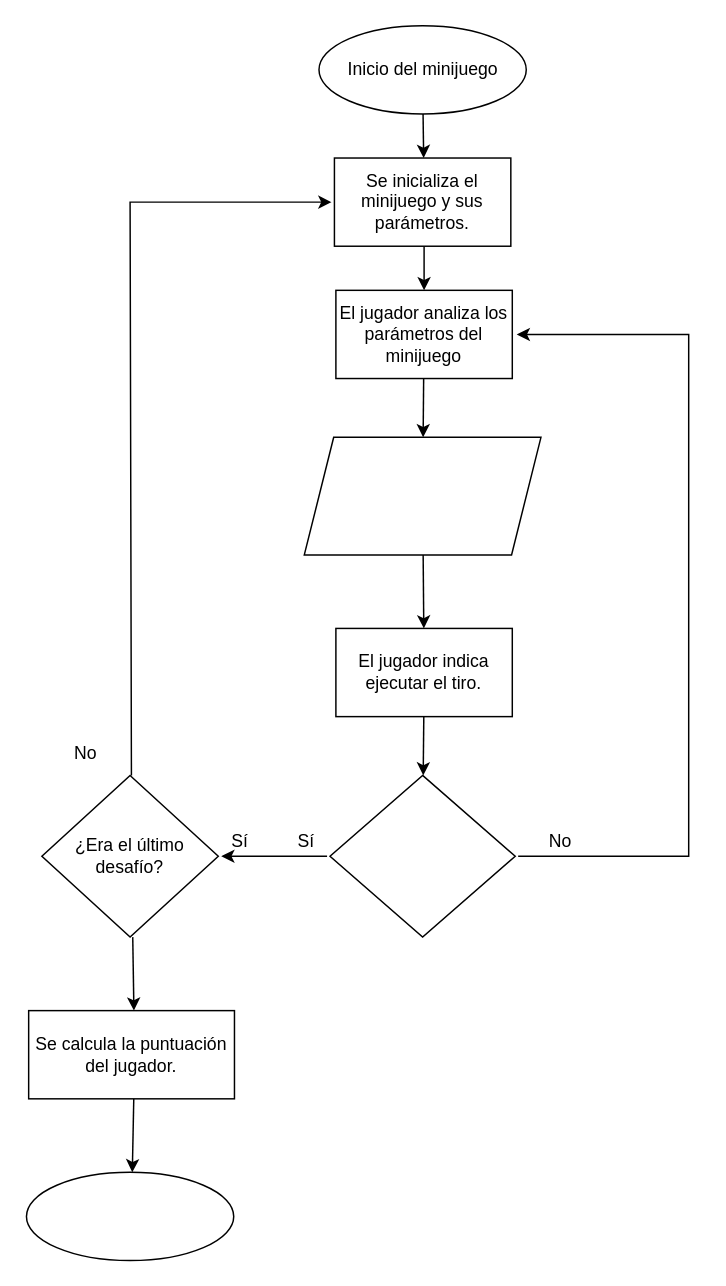
Some shapes in this 726 by 1286 pixel diagram are drawn without their labels. The shapes that lost their labels are listed below. From the top down, each one's box as (x1, y1, x2, y2) in pixels, then its label:
(303, 436, 541, 555): El jugador ingresa los parámetros: - angulo_salida_bola - fuerza_inicial_bola
(329, 774, 515, 937): ¿La bola entró a la canasta?
(25, 1171, 234, 1261): Fin del minijuego
